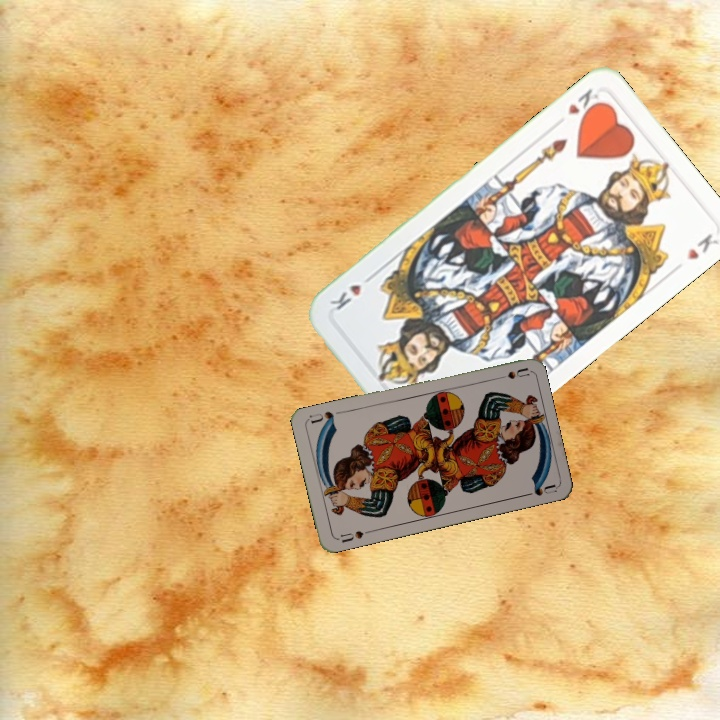HK: (563, 84, 607, 123)
SU: (333, 526, 373, 545), (489, 364, 530, 382)
